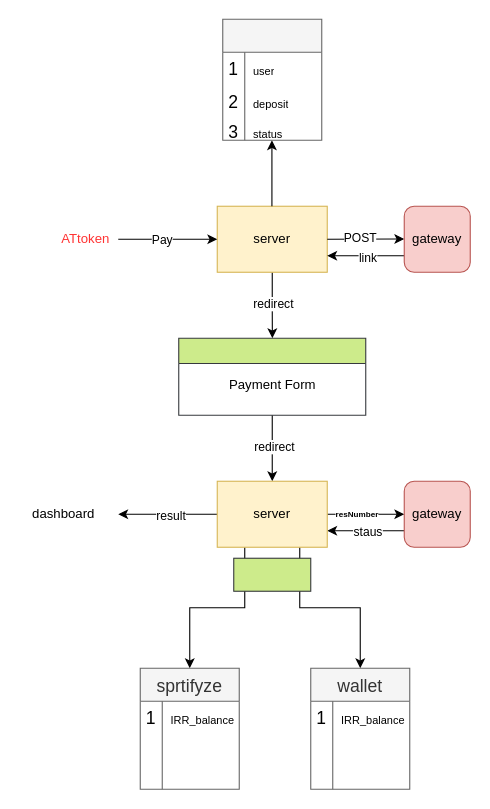
This 490x809 diagram has some shape labels left out. The shapes that lost their labels are listed below. From the top down, each one's box as (x1, y1, x2, y2) in pixels, then its label:
(222, 18, 322, 140): Trx
(178, 337, 366, 415): gateway page
(233, 557, 311, 591): success
